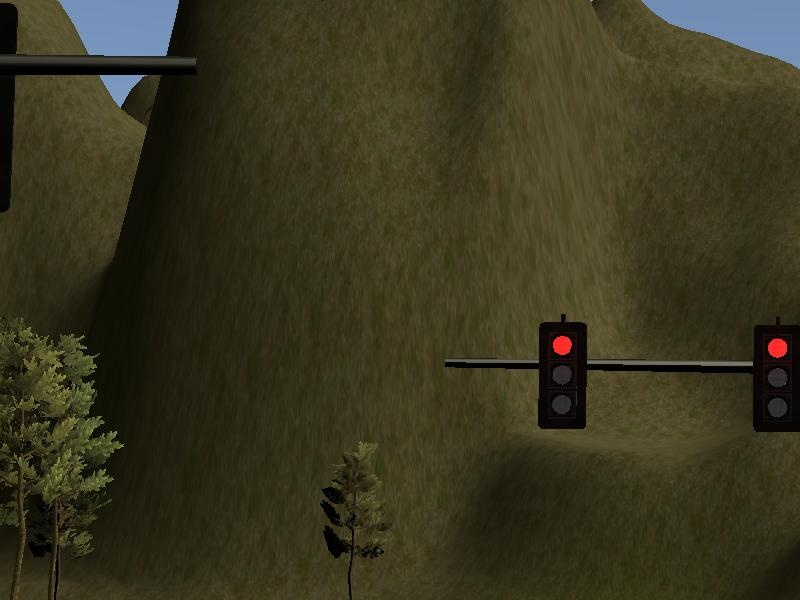RED: (540, 323, 588, 431), (753, 324, 798, 429)
